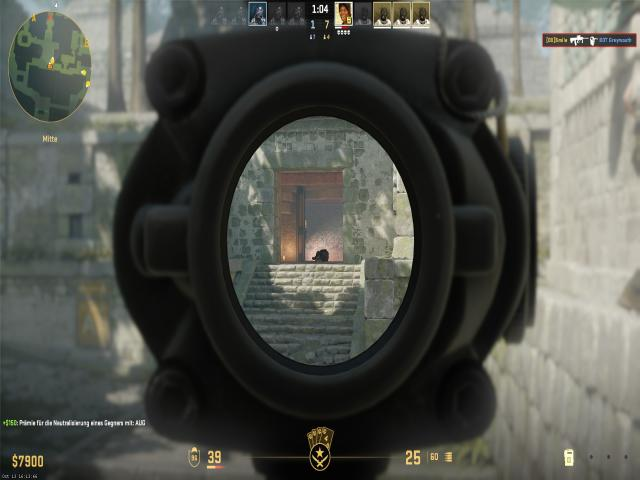CT-Head: (312, 248, 331, 267)
